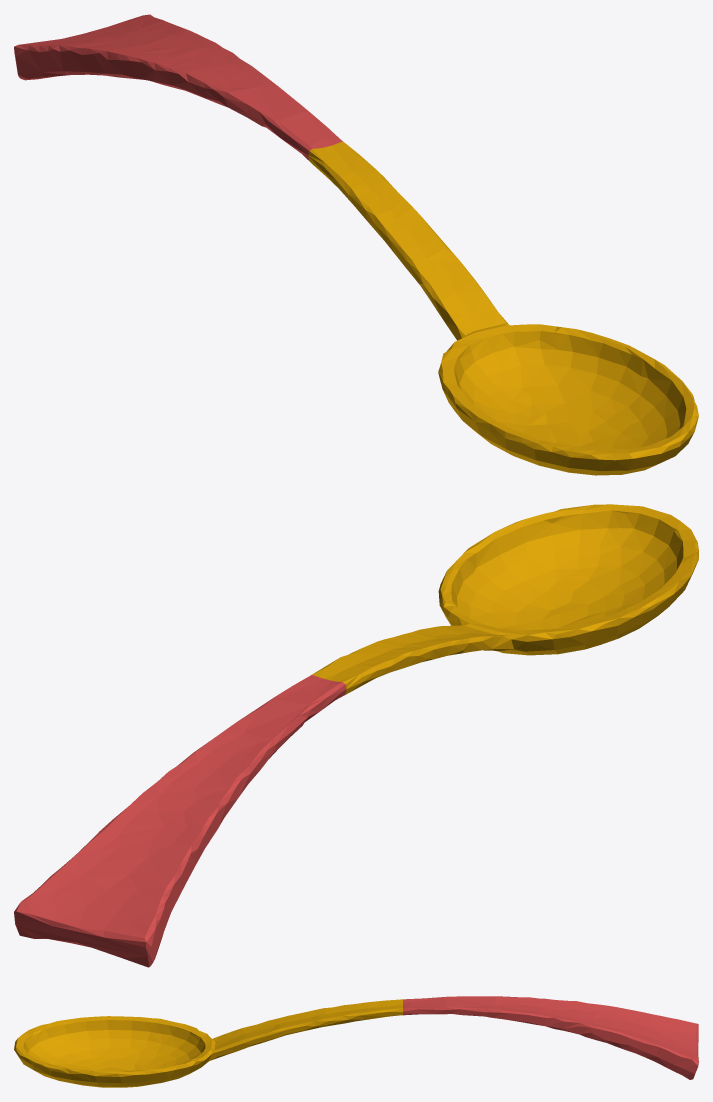
File: mode_1_2pcs.glb
3 views of the same model, one above another, from view 1: azimuth 30°, elevation 25°; view 2: azimuth 150°, elevation 25°; view 3: azimuth 270°, elevation 25° (orthographic). The views are drawn at different scales.
Visible parts, largest first — view 1: piece_0.obj, piece_1.obj; view 2: piece_0.obj, piece_1.obj; view 3: piece_0.obj, piece_1.obj.
Boxes of the visible parts, x1=… form: piece_0.obj: x1=308, y1=141, x2=698, y2=475; piece_1.obj: x1=14, y1=14, x2=342, y2=160; piece_0.obj: x1=312, y1=504, x2=698, y2=694; piece_1.obj: x1=14, y1=675, x2=346, y2=967; piece_0.obj: x1=14, y1=999, x2=402, y2=1087; piece_1.obj: x1=403, y1=996, x2=698, y2=1079.
Size of the model in its own units: 0.1994 by 0.1195 by 1.
